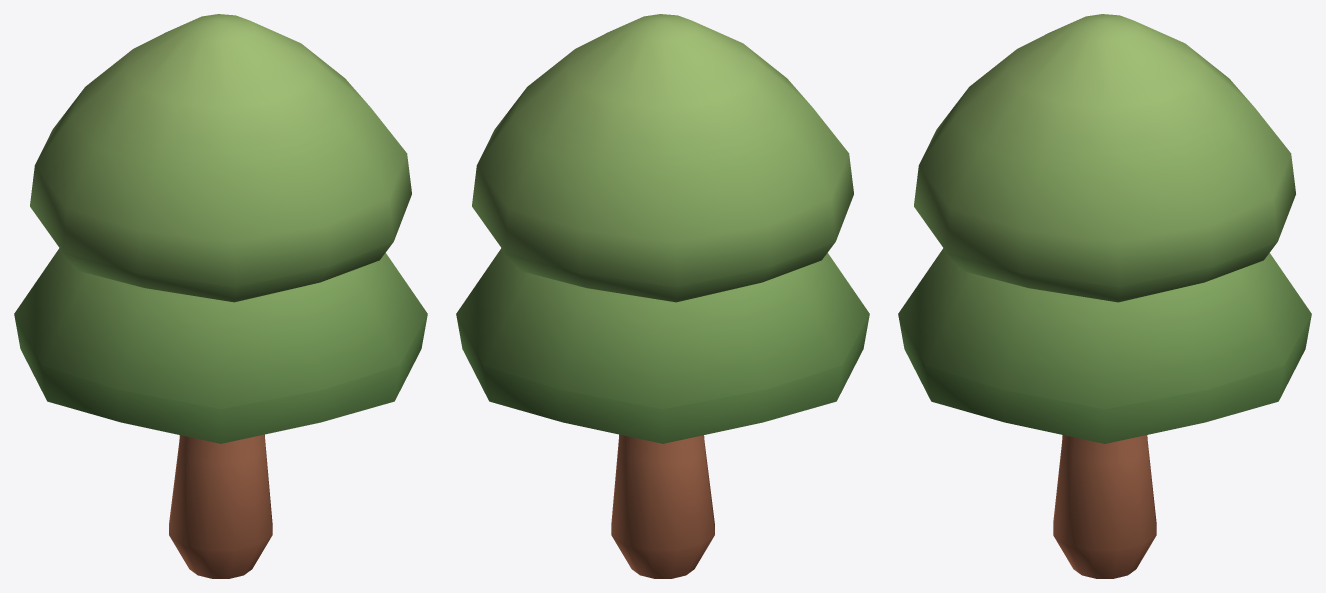
File: tree_small.glb
3 views of the same model, side by side, from view 1: azimuth 30°, elevation 25°; view 2: azimuth 150°, elevation 25°; view 3: azimuth 270°, elevation 25° (orthographic).
Parts seen in each view (by area): view 1: tree_small; view 2: tree_small; view 3: tree_small.
Boxes of the visible parts, bbox=[...] form: tree_small: bbox=[14, 14, 427, 578]; tree_small: bbox=[456, 14, 869, 578]; tree_small: bbox=[898, 14, 1311, 578].
Size of the model in its own units: 1.98 by 2.88 by 1.98.
Materials: 1 (1 with a texture image).
